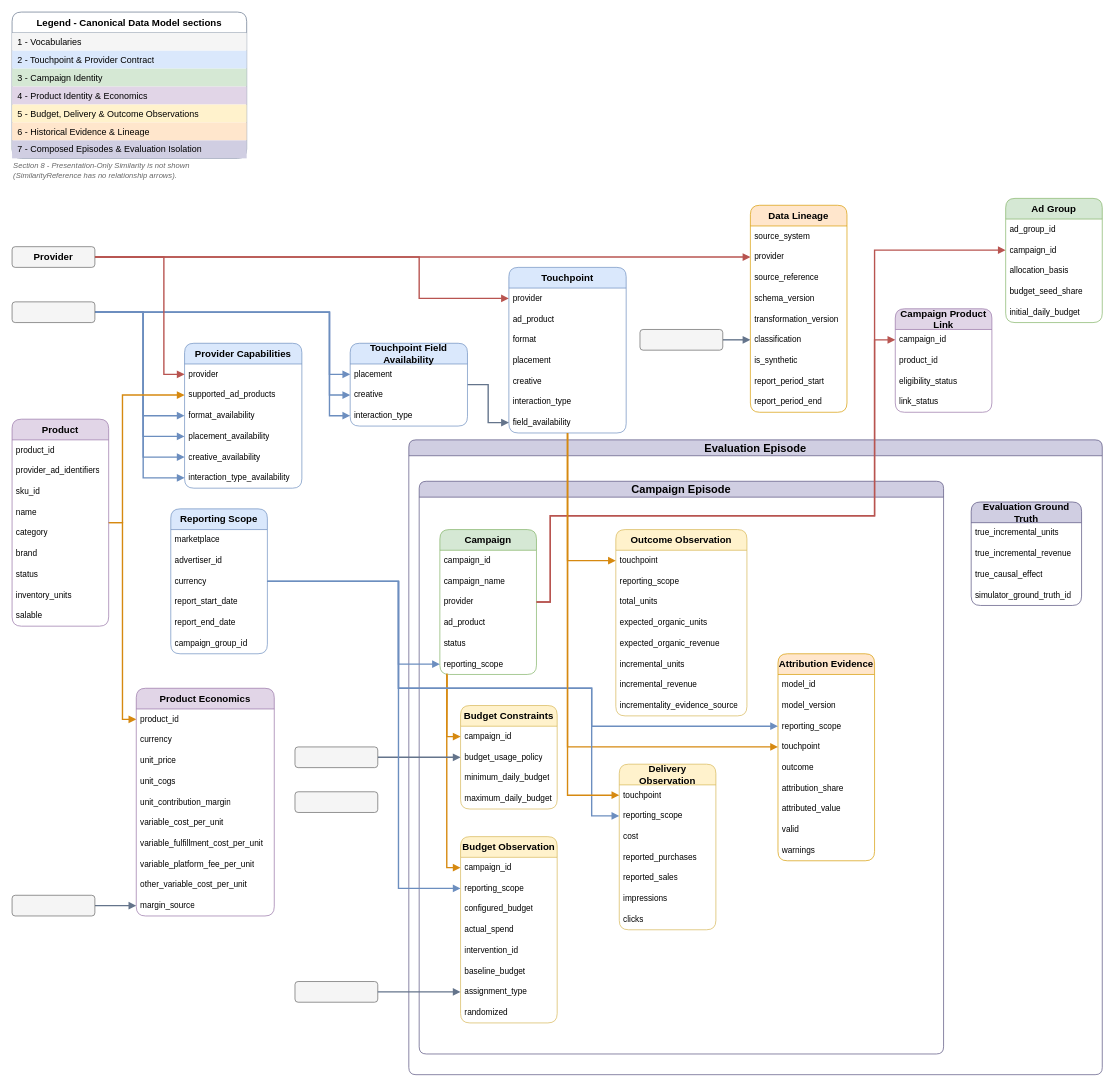
Image size: 1114x1087. Some labels were removed from this diagram. The centre of each missing label's shape, as x and y in pixels:
Assignment Type: the point at 336,991
Budget Usage Policy: the point at 336,757
Field Availability: the point at 53,312
Margin Source: the point at 53,905
Record Classification: the point at 681,339
Strategy Objective: the point at 336,801
